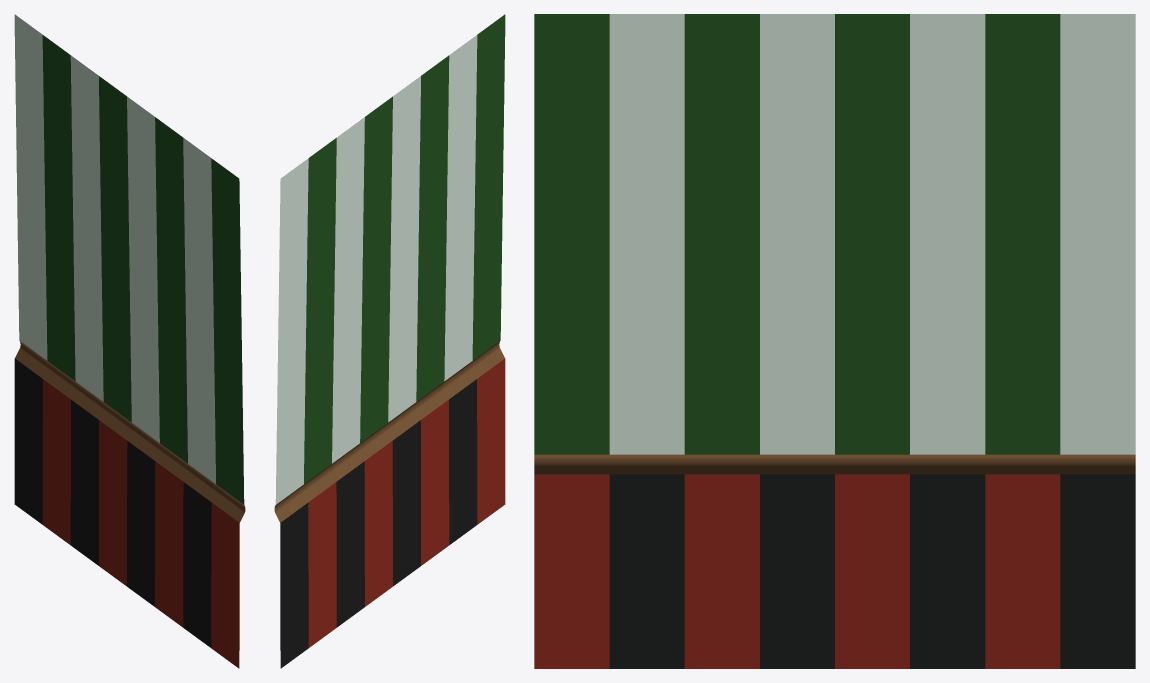
Rendered from wallTile.glb.
The picture shows the model from 3 angles, left to right: view 1: azimuth 30°, elevation 25°; view 2: azimuth 150°, elevation 25°; view 3: azimuth 270°, elevation 25°; orthographic projection. The views are drawn at different scales.
Visible parts, largest first — view 1: wall; view 2: wall; view 3: wall.
Part boxes in pixels (x1=…): wall: x1=14, y1=14, x2=245, y2=668; wall: x1=274, y1=14, x2=505, y2=668; wall: x1=534, y1=14, x2=1135, y2=668.
Bounding box in the file's own units: 0.0612 × 4.75 × 3.95.
